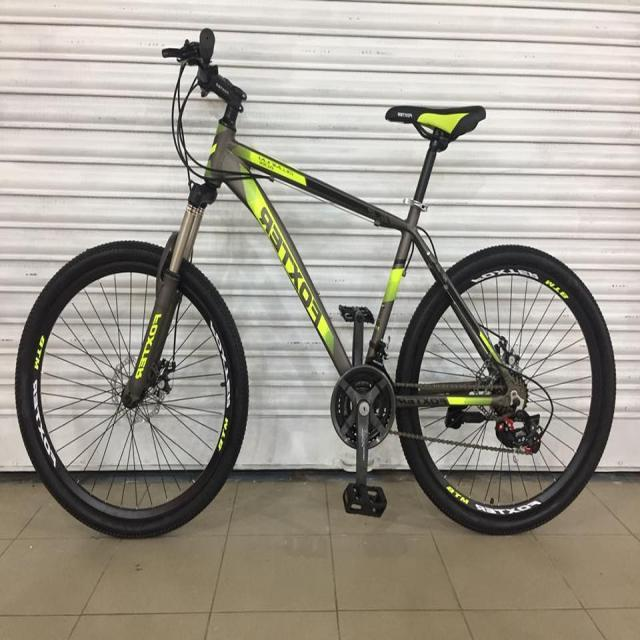Bicycle: (2, 12, 628, 557)
